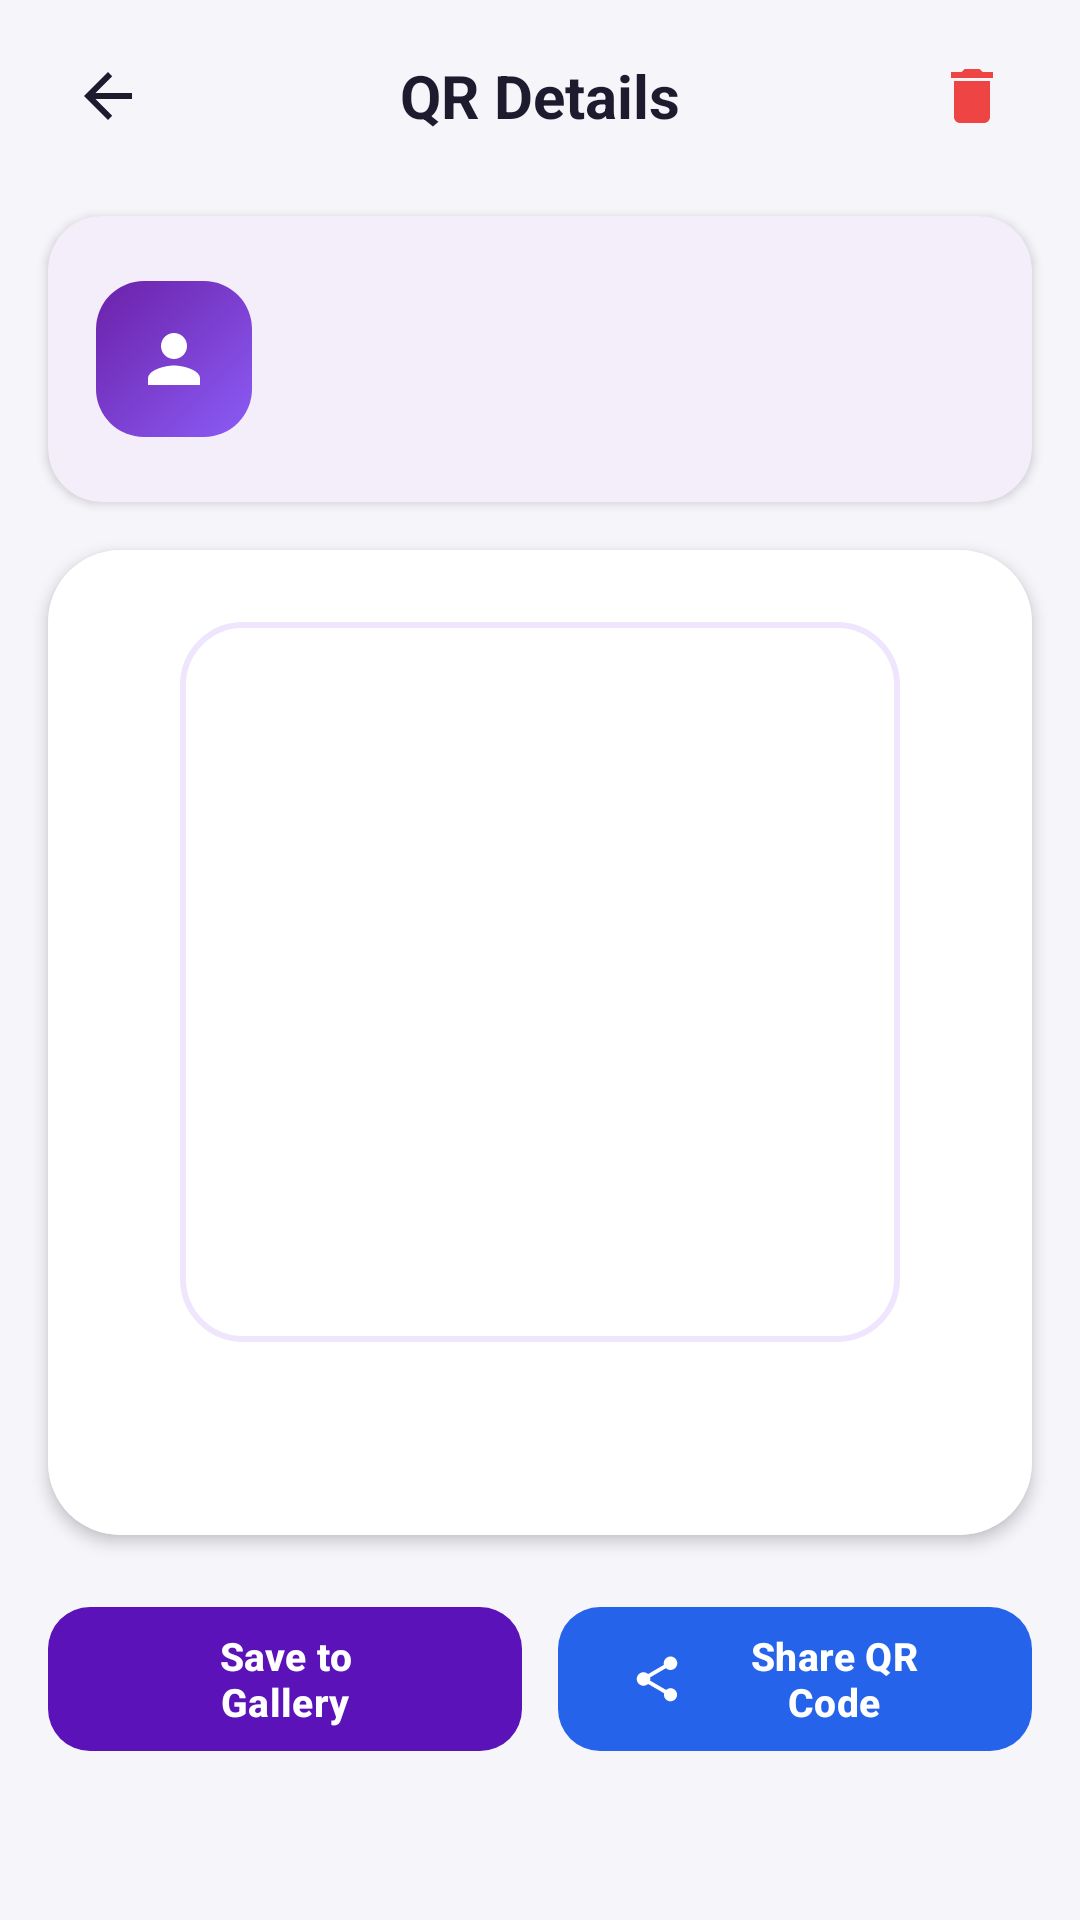

Screen size 1080×1920. Icon name, then its center in pixels as (x=x, y=y):
Avatar: (x=174, y=359)
Back: (x=108, y=96)
Delete: (x=972, y=96)
